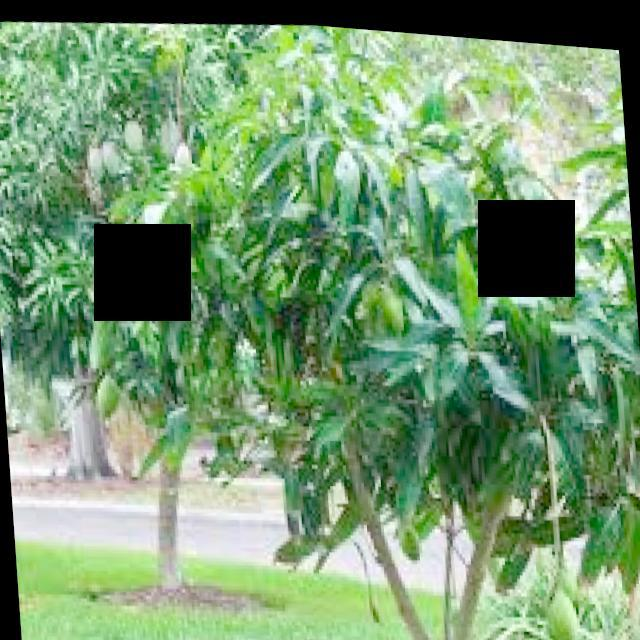Tree: (39, 4, 633, 640)
